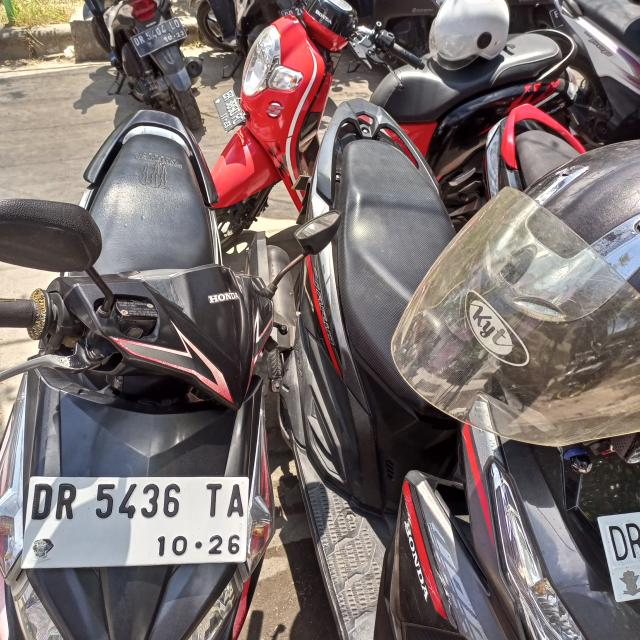plate: (24, 470, 249, 572), (130, 17, 187, 58), (212, 88, 245, 134)
